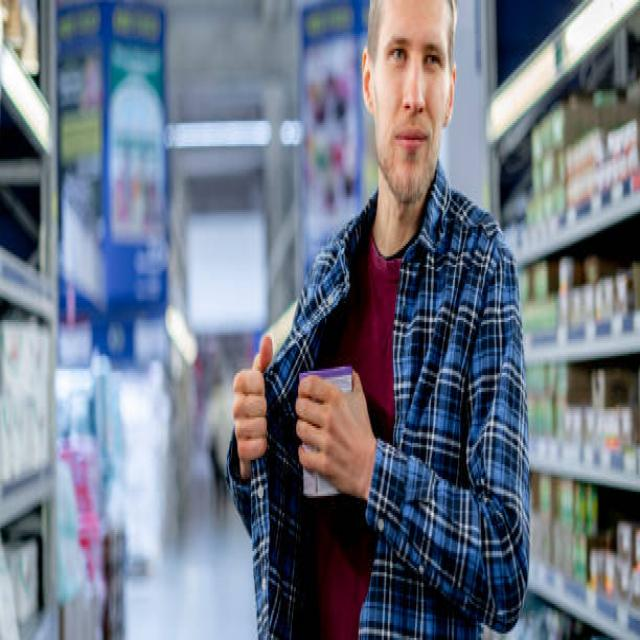article: (300, 367, 351, 390), (303, 470, 338, 494)
bags: (357, 166, 518, 638), (256, 197, 376, 636)
hands: (296, 371, 374, 498), (233, 335, 272, 477)
person: (227, 0, 529, 638)
